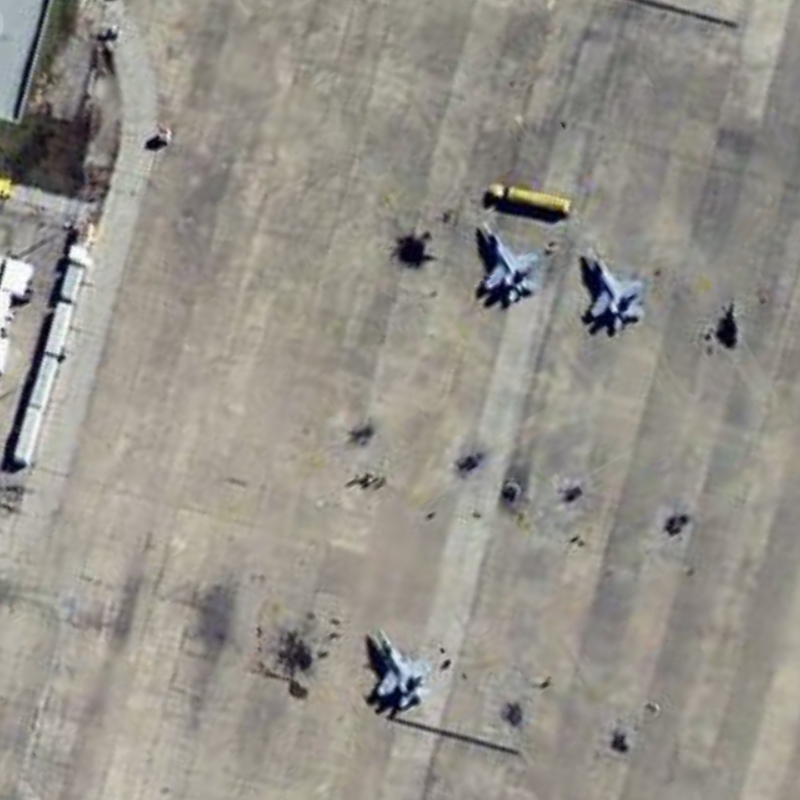A16: (567, 238, 656, 343), (466, 208, 548, 317), (361, 615, 444, 717)
